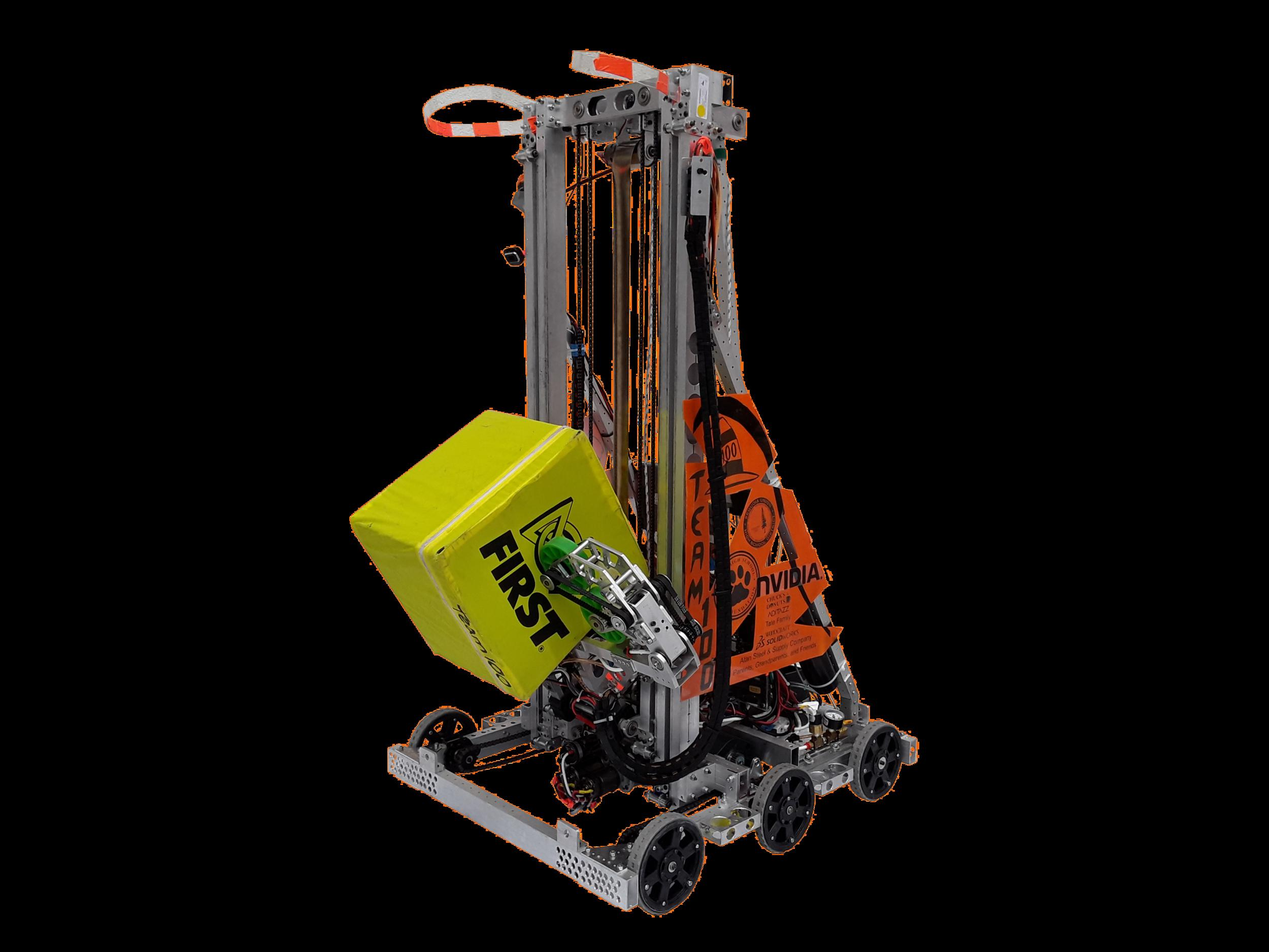robot: (346, 39, 934, 925)
